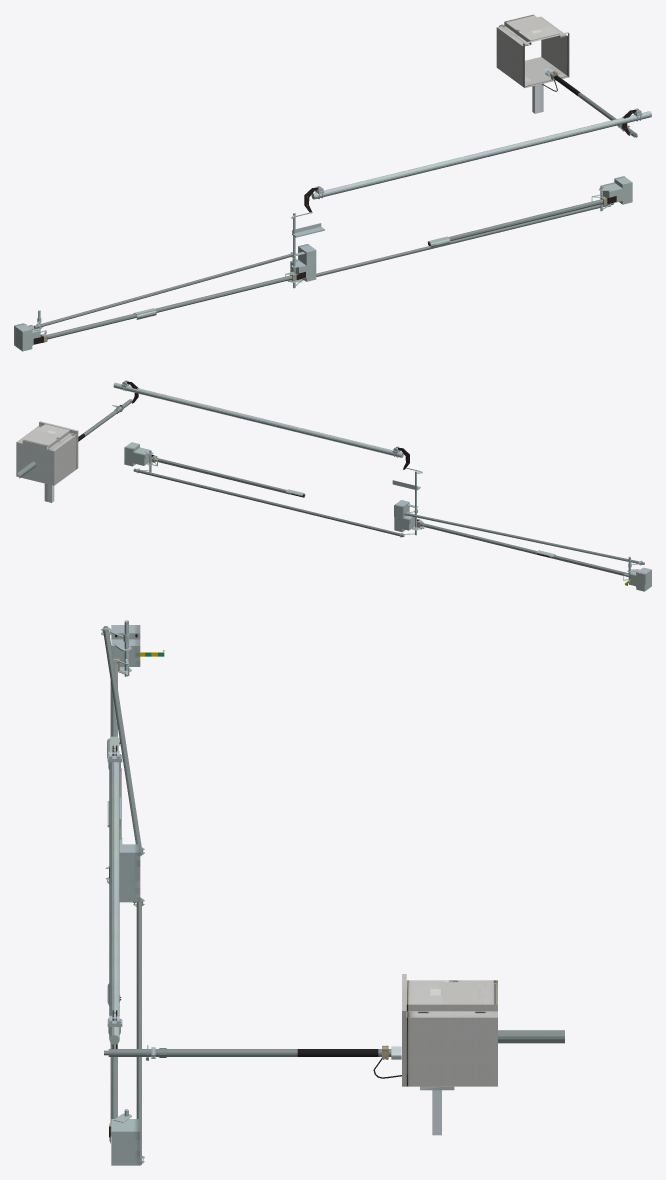
File: glkg-11m32000237461069-geode.glb
The picture shows the model from 3 angles, top to bottom: view 1: azimuth 30°, elevation 25°; view 2: azimuth 150°, elevation 25°; view 3: azimuth 270°, elevation 25°; orthographic projection. The views are drawn at different scales.
Parts seen in each view (by area): view 1: Node; view 2: Node; view 3: Node.
Boxes of the visible parts, x1,y1,x2,y2 form: Node: (14,14,651,351); Node: (16,380,651,591); Node: (101,620,564,1165).
Size of the model in its own units: 7.1 by 1.15 by 2.65.
10 materials, 10 textured.
